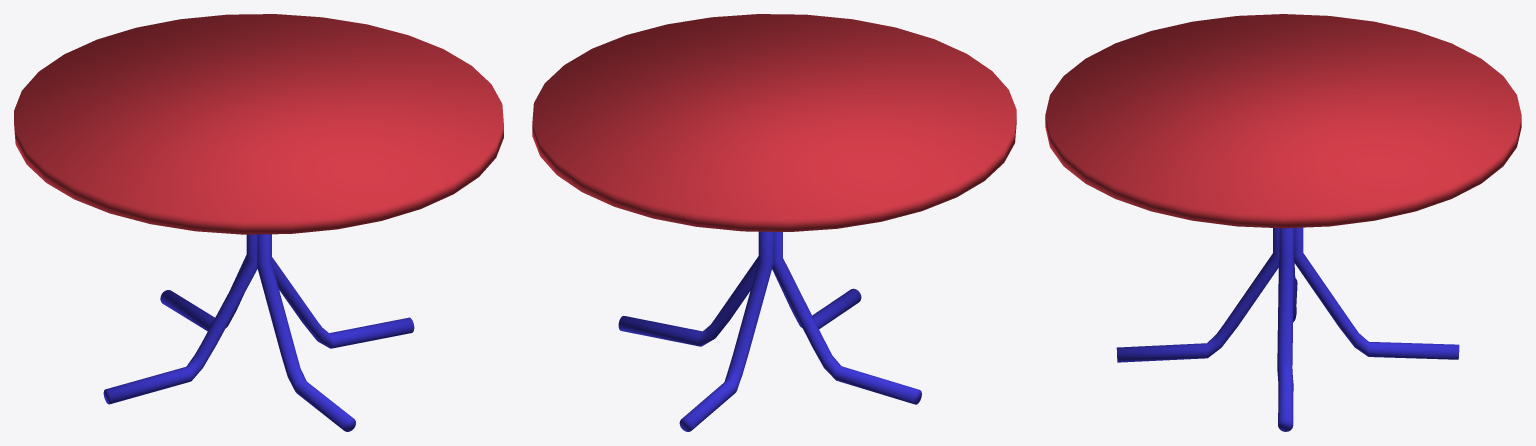
Rendered from Objeto_MesaRedondo_2.0.fbx.
The picture shows the model from 3 angles, left to right: view 1: azimuth 30°, elevation 25°; view 2: azimuth 150°, elevation 25°; view 3: azimuth 270°, elevation 25°; orthographic projection. The views are drawn at different scales.
Parts seen in each view (by area): view 1: Cilindro; view 2: Cilindro; view 3: Cilindro.
Boxes of the visible parts, x1,y1,x2,y2 form: Cilindro: [14, 14, 503, 431]; Cilindro: [532, 14, 1016, 431]; Cilindro: [1045, 14, 1521, 431].
Size of the model in its own units: 363 by 207 by 363.
